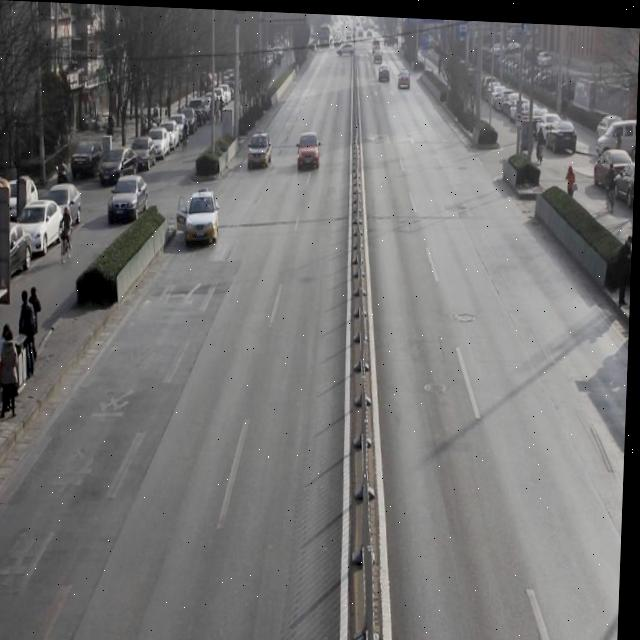car: (184, 180, 224, 245), (295, 128, 325, 171), (248, 123, 275, 169), (397, 63, 412, 91)
